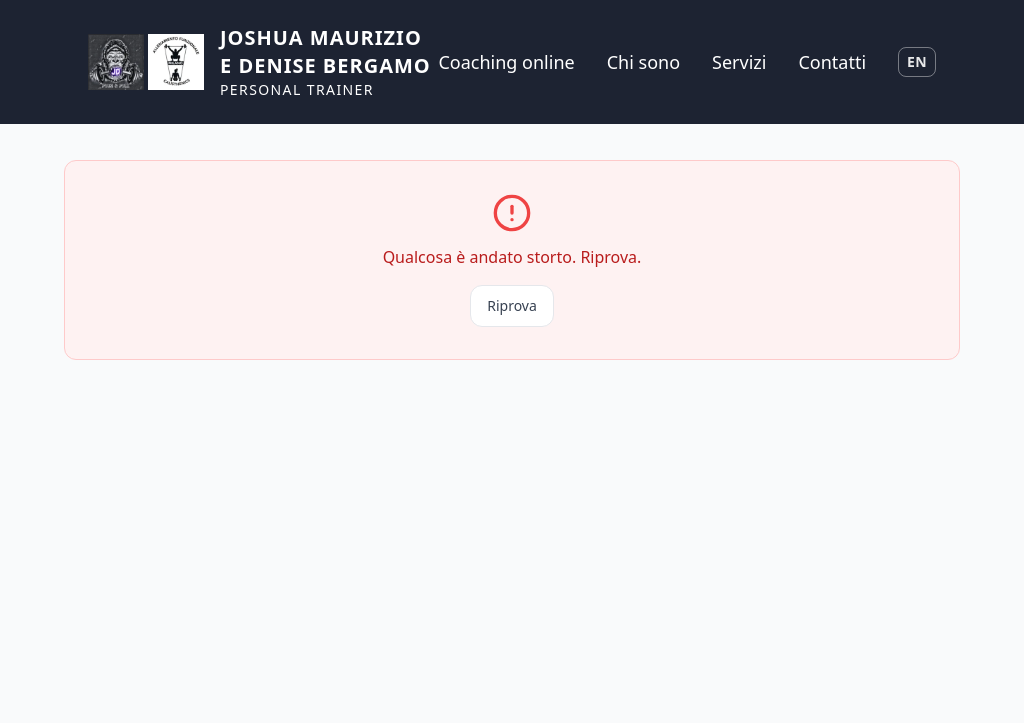
Test: DashboardPage — access › offers a retry, not "access denied", when the server has a hiccup
Click the button "Riprova".
click(512, 306)  # box [470,285,554,327]
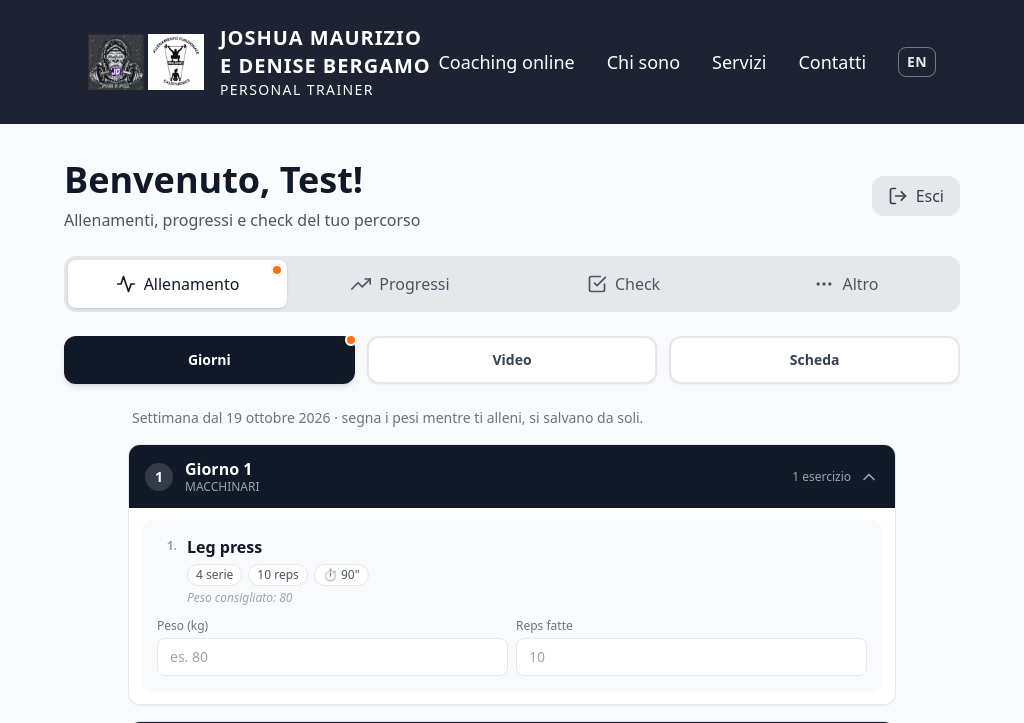
Expected: the heading "Benvenuto, Test!" is shown, [64,155,363,204]
